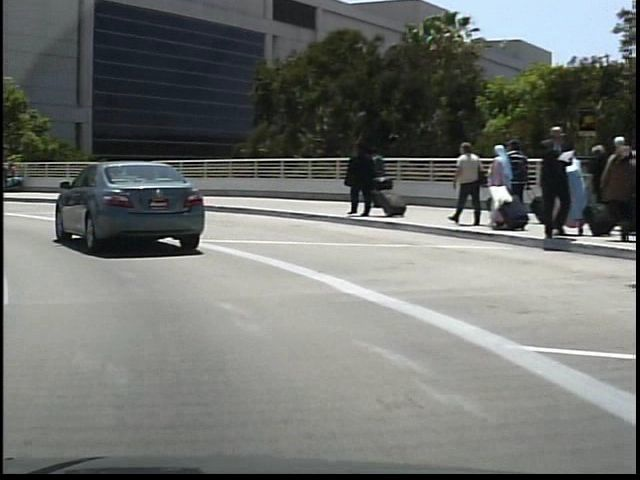person: (530, 121, 572, 241), (444, 138, 483, 227), (338, 140, 374, 219), (365, 147, 386, 210)
